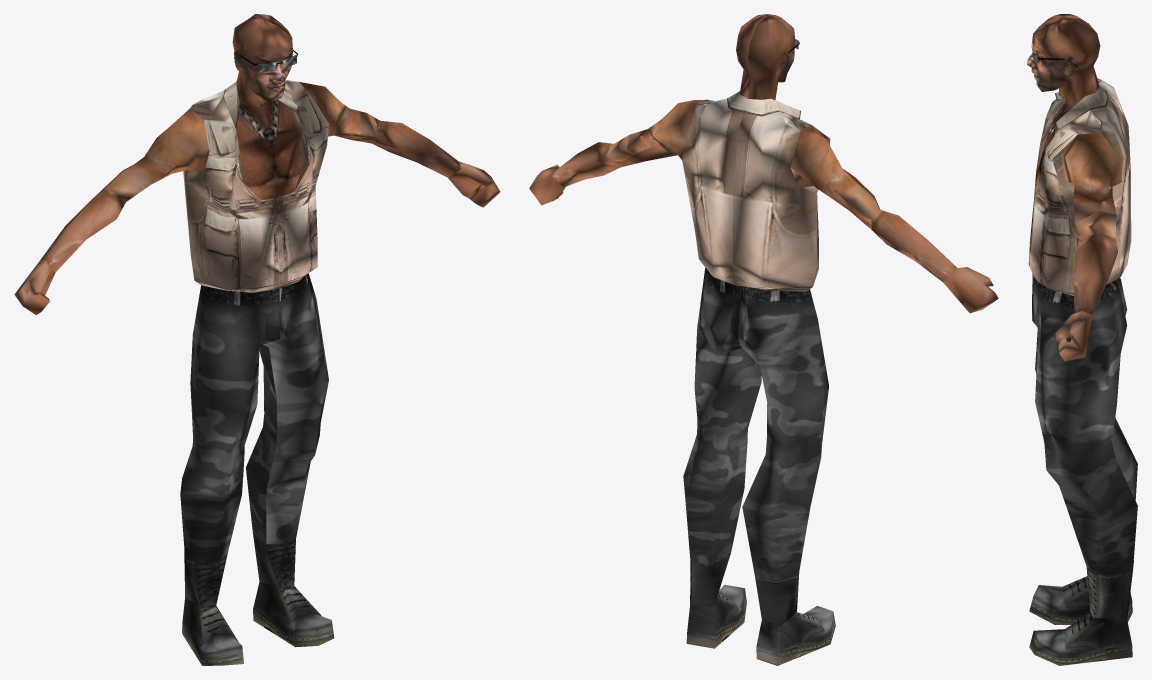
File: eTier1a.glb
The picture shows the model from 3 angles, left to right: view 1: azimuth 30°, elevation 25°; view 2: azimuth 150°, elevation 25°; view 3: azimuth 270°, elevation 25°; orthographic projection. The views are drawn at different scales.
Parts seen in each view (by area): view 1: _eTier1a; view 2: _eTier1a; view 3: _eTier1a.
Part boxes in pixels (x1,y1,x2,y2): _eTier1a: (14,14,500,665); _eTier1a: (529,14,998,665); _eTier1a: (1027,14,1137,665).
Bounding box in the file's own units: 1.57 × 1.99 × 0.3227.
1 material, 1 textured.
